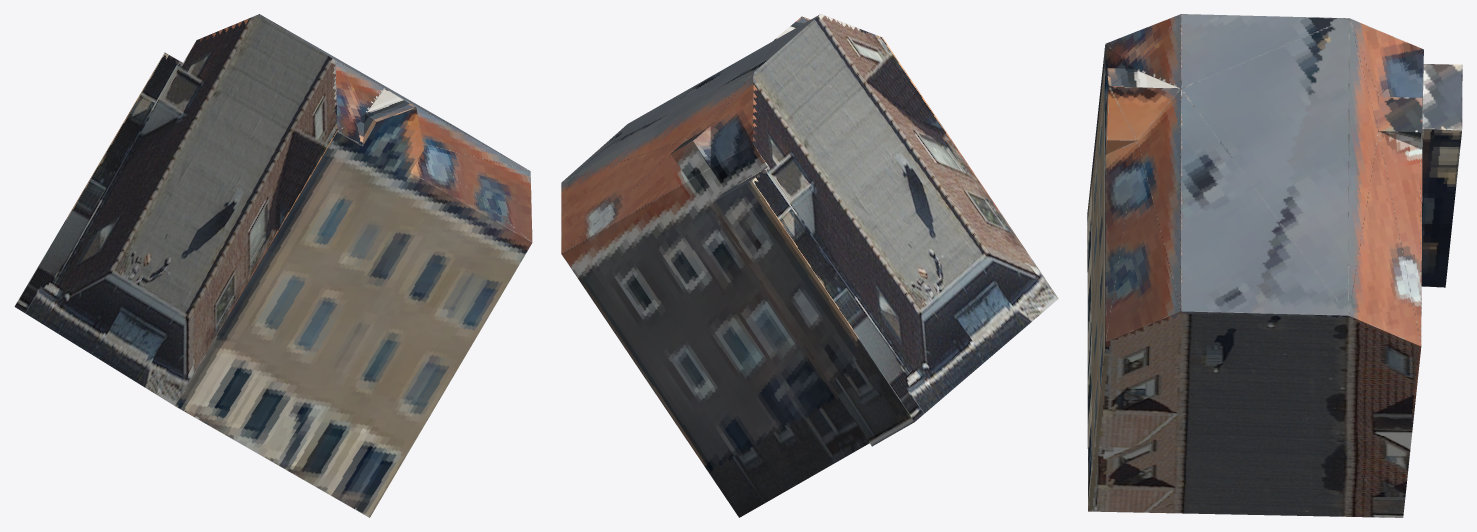
3 renders of one model, left to right at view 1: azimuth 30°, elevation 25°; view 2: azimuth 150°, elevation 25°; view 3: azimuth 270°, elevation 25°, orthographic. The views are drawn at different scales.
Visible parts, largest first — view 1: BAG_0599100000688681 (×4); view 2: BAG_0599100000688681 (×4); view 3: BAG_0599100000688681 (×5).
Part boxes in pixels (x1=…): BAG_0599100000688681 (×4): x1=14, y1=14, x2=532, y2=517; BAG_0599100000688681 (×4): x1=561, y1=14, x2=1058, y2=517; BAG_0599100000688681 (×5): x1=1087, y1=14, x2=1462, y2=517.
Bounding box in the file's own units: 15.75 × 16.3 × 10.84.
5 materials, 5 textured.
